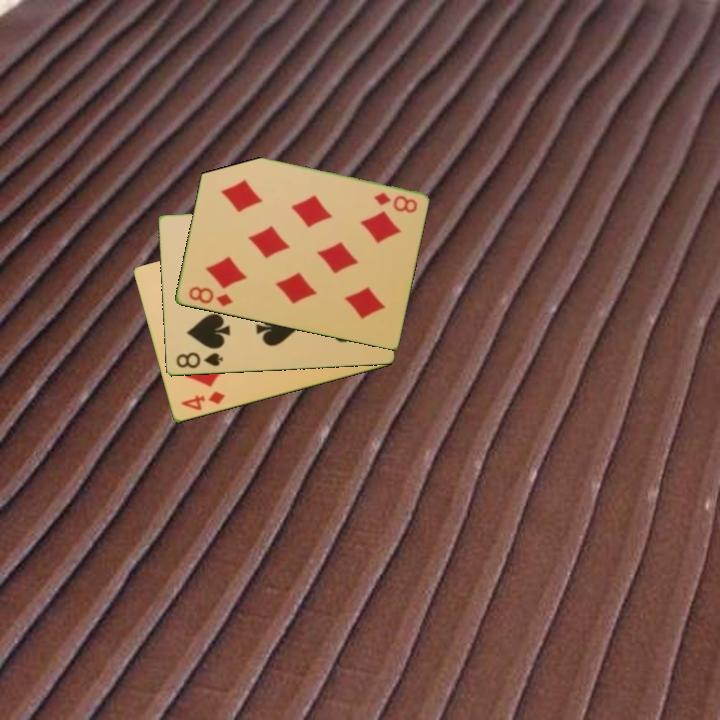4d: (177, 388, 228, 414)
8d: (185, 283, 235, 310), (370, 189, 420, 216)
8s: (172, 349, 226, 371)
